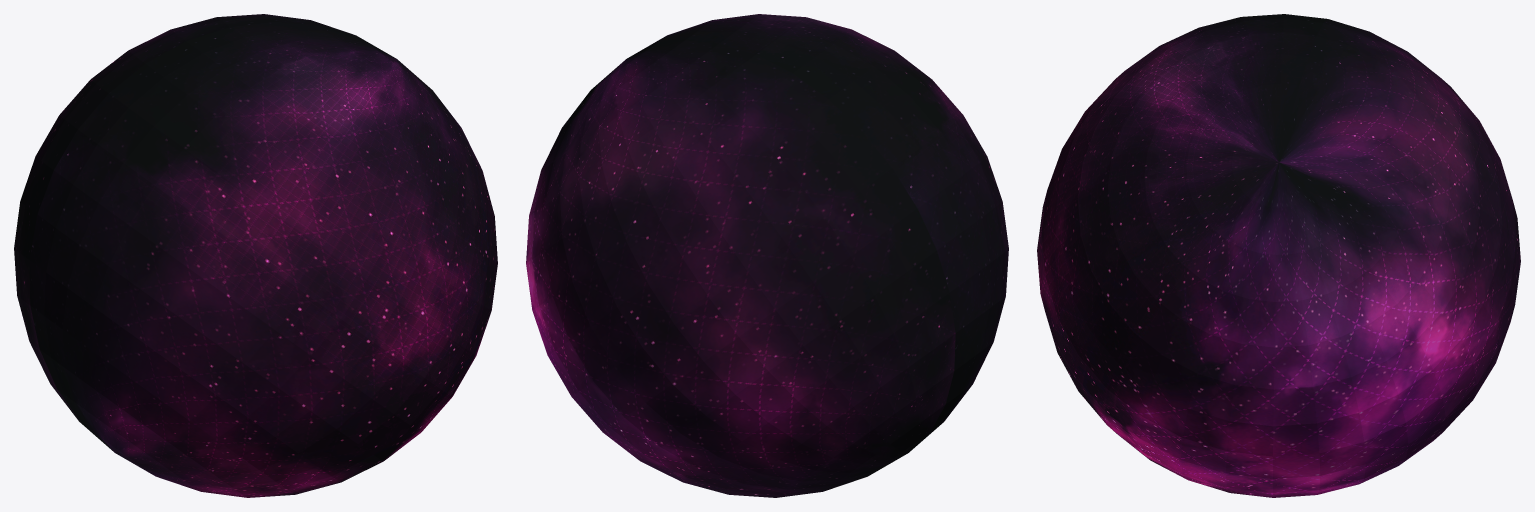
File: clothes__shoes_hanger_free_low_poly.glb
3 renders of one model, left to right at view 1: azimuth 30°, elevation 25°; view 2: azimuth 150°, elevation 25°; view 3: azimuth 270°, elevation 25°, orthographic.
Visible parts, largest first — view 1: Sphere_1; view 2: Sphere_1; view 3: Sphere_1.
Boxes of the visible parts, left/top/right/bottom form: Sphere_1: left=14, top=14, right=497, bottom=497; Sphere_1: left=526, top=14, right=1008, bottom=497; Sphere_1: left=1037, top=14, right=1520, bottom=497.
Size of the model in its own units: 1382 by 1382 by 1383.
4 materials, 4 textured.
